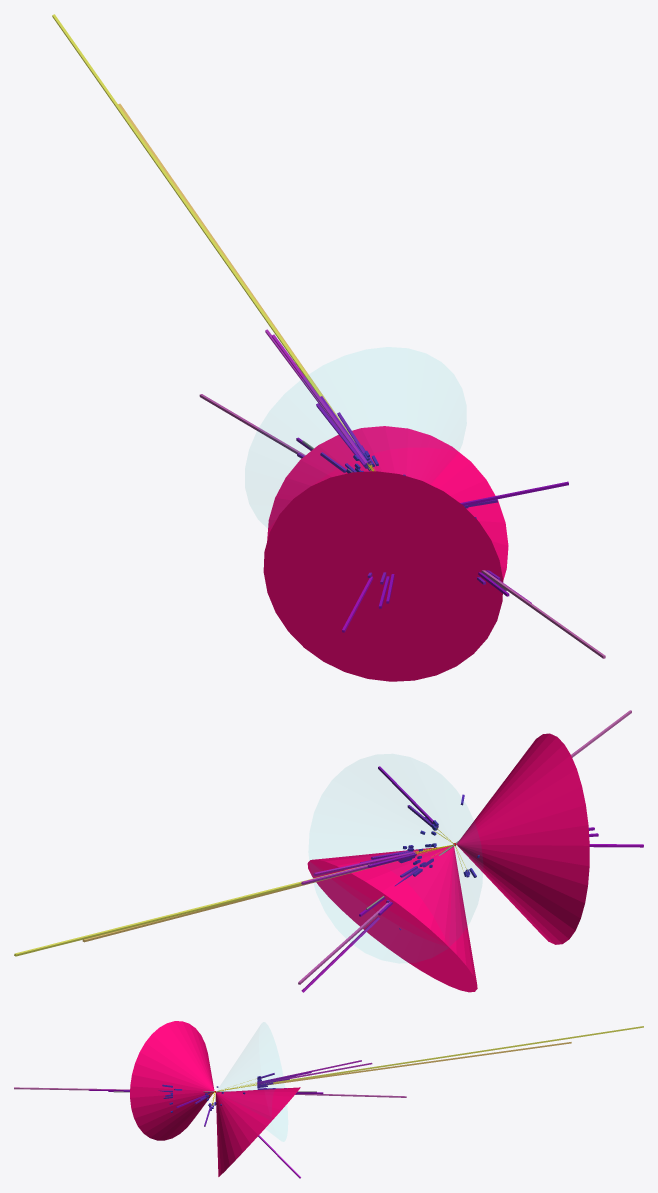
Rendered from tag_1_delphes_events_vbs_view.glb.
The picture shows the model from 3 angles, top to bottom: view 1: azimuth 30°, elevation 25°; view 2: azimuth 150°, elevation 25°; view 3: azimuth 270°, elevation 25°; orthographic projection. The views are drawn at different scales.
Visible parts, largest first — view 1: world; view 2: world; view 3: world.
Boxes of the visible parts, x1,y1,x2,y2 form: world: [52, 14, 605, 681]; world: [14, 710, 643, 992]; world: [14, 1021, 643, 1178].
Size of what is drawn, in the model's own units: 9.43 by 10.53 by 37.2.
